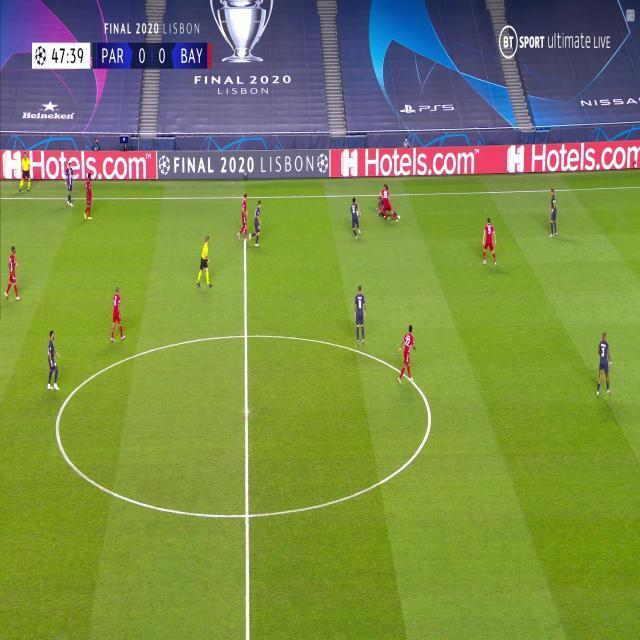player: (397, 324, 417, 386), (595, 331, 613, 399), (4, 244, 22, 301), (46, 328, 62, 391), (110, 285, 126, 342), (376, 185, 399, 223), (354, 284, 367, 347), (483, 217, 498, 267), (237, 192, 251, 242), (251, 199, 264, 247), (349, 196, 362, 240), (548, 188, 559, 238), (83, 174, 94, 220), (65, 161, 75, 208)
referee: (197, 234, 214, 288), (19, 152, 32, 192)
